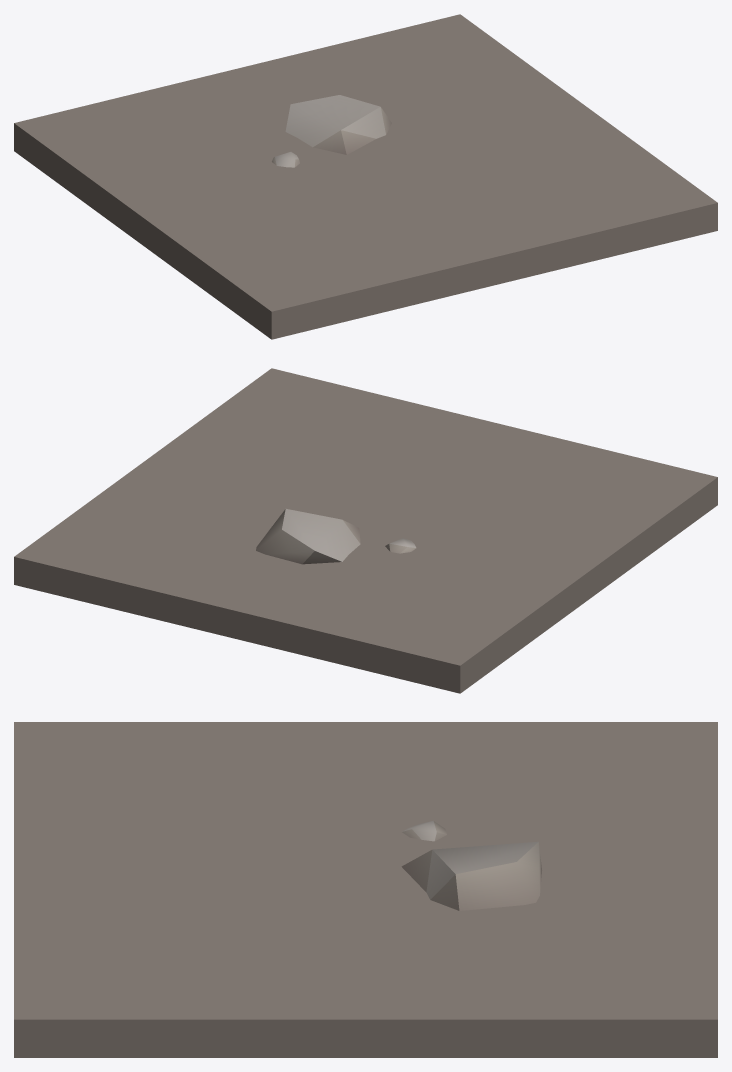
File: floor_dirt_small_C.gltf
3 renders of one model, top to bottom at view 1: azimuth 30°, elevation 25°; view 2: azimuth 150°, elevation 25°; view 3: azimuth 270°, elevation 25°, orthographic. The views are drawn at different scales.
Visible parts, largest first — view 1: floor_dirt_small_C; view 2: floor_dirt_small_C; view 3: floor_dirt_small_C.
Part boxes in pixels (box(x1,y1,x2,y2)): floor_dirt_small_C: box(14, 14, 717, 339); floor_dirt_small_C: box(14, 368, 717, 693); floor_dirt_small_C: box(14, 722, 717, 1057).
Bounding box in the file's own units: 2 × 0.2086 × 2.
1 material, 1 textured.
